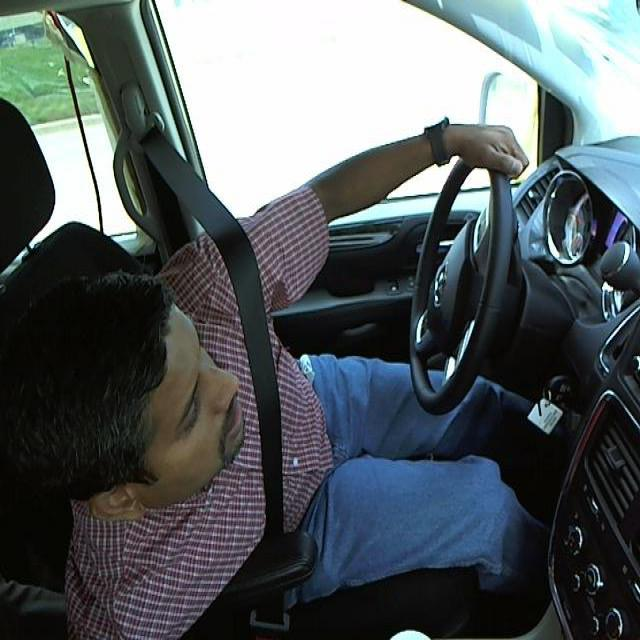seatbelt: (223, 265, 332, 539)
